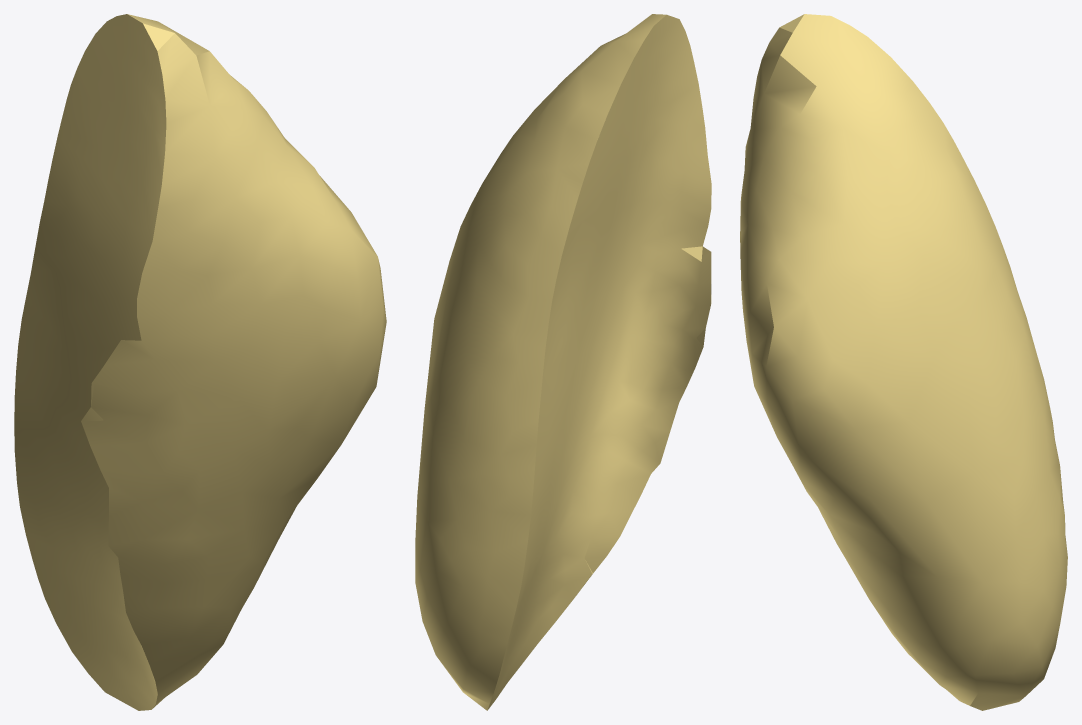
The model's file is fma73485_mm3593m.glb.
The picture shows the model from 3 angles, left to right: view 1: azimuth 30°, elevation 25°; view 2: azimuth 150°, elevation 25°; view 3: azimuth 270°, elevation 25°; orthographic projection. The views are drawn at different scales.
Parts seen in each view (by area): view 1: FMA73485_MM3593M; view 2: FMA73485_MM3593M; view 3: FMA73485_MM3593M.
Part boxes in pixels (bbox=[...]): FMA73485_MM3593M: bbox=[14, 14, 386, 710]; FMA73485_MM3593M: bbox=[415, 14, 711, 710]; FMA73485_MM3593M: bbox=[740, 14, 1067, 710].
Size of the model in its own units: 0.00413 by 0.0105 by 0.00477.
